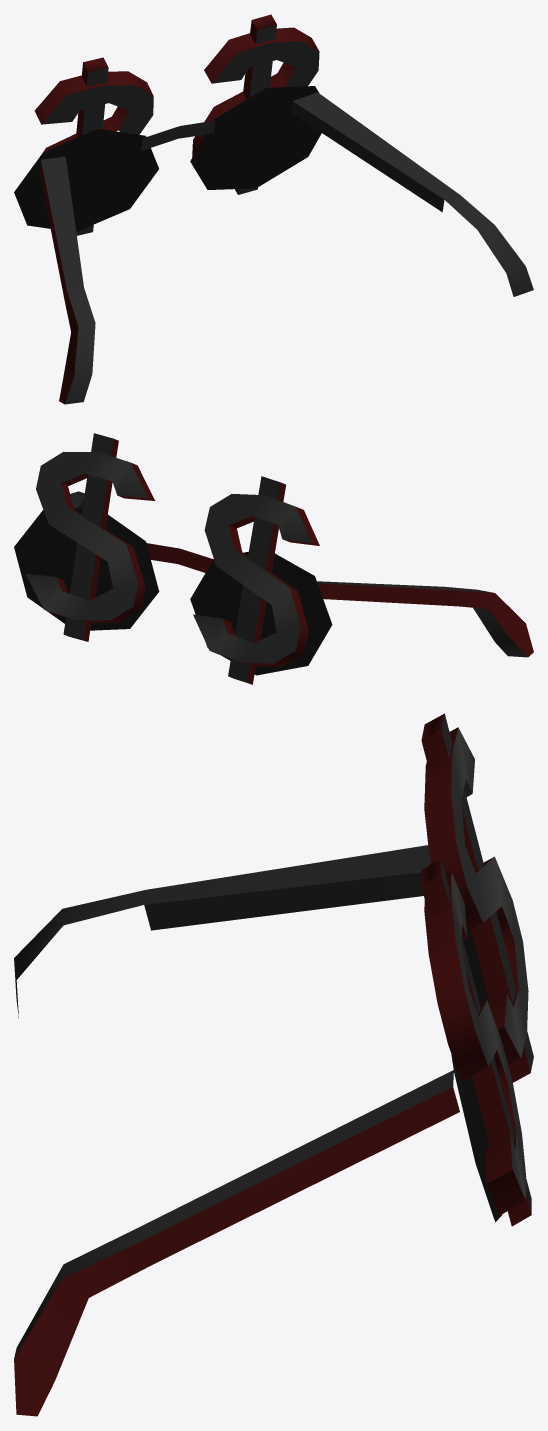
Rendered from hat_PremiumEggTier3.glb.
The picture shows the model from 3 angles, top to bottom: view 1: azimuth 30°, elevation 25°; view 2: azimuth 150°, elevation 25°; view 3: azimuth 270°, elevation 25°; orthographic projection. The views are drawn at different scales.
Parts seen in each view (by area): view 1: hat_PremiumEggTier3; view 2: hat_PremiumEggTier3; view 3: hat_PremiumEggTier3.
Boxes of the visible parts, x1,y1,x2,y2 form: hat_PremiumEggTier3: (14,14,533,404); hat_PremiumEggTier3: (14,433,533,684); hat_PremiumEggTier3: (14,713,533,1416).
Bounding box in the file's own units: 0.499 × 0.2334 × 0.2633.
